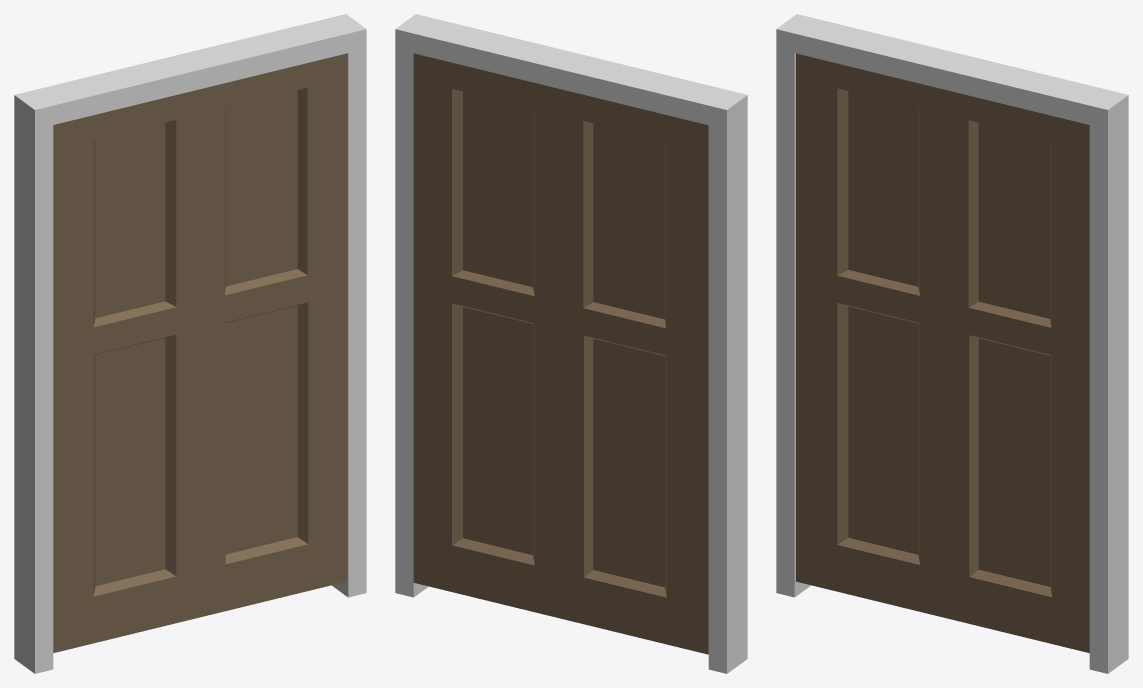
The model's file is Door_Scurry.fbx.
3 renders of one model, left to right at view 1: azimuth 30°, elevation 25°; view 2: azimuth 150°, elevation 25°; view 3: azimuth 330°, elevation 25°, orthographic.
Parts seen in each view (by area): view 1: door1; view 2: door1; view 3: door1.
Boxes of the visible parts, bbox=[...] form: door1: bbox=[14, 14, 366, 673]; door1: bbox=[395, 14, 747, 673]; door1: bbox=[776, 14, 1128, 673].
Bounding box in the file's own units: 692 × 1124 × 75.82.
